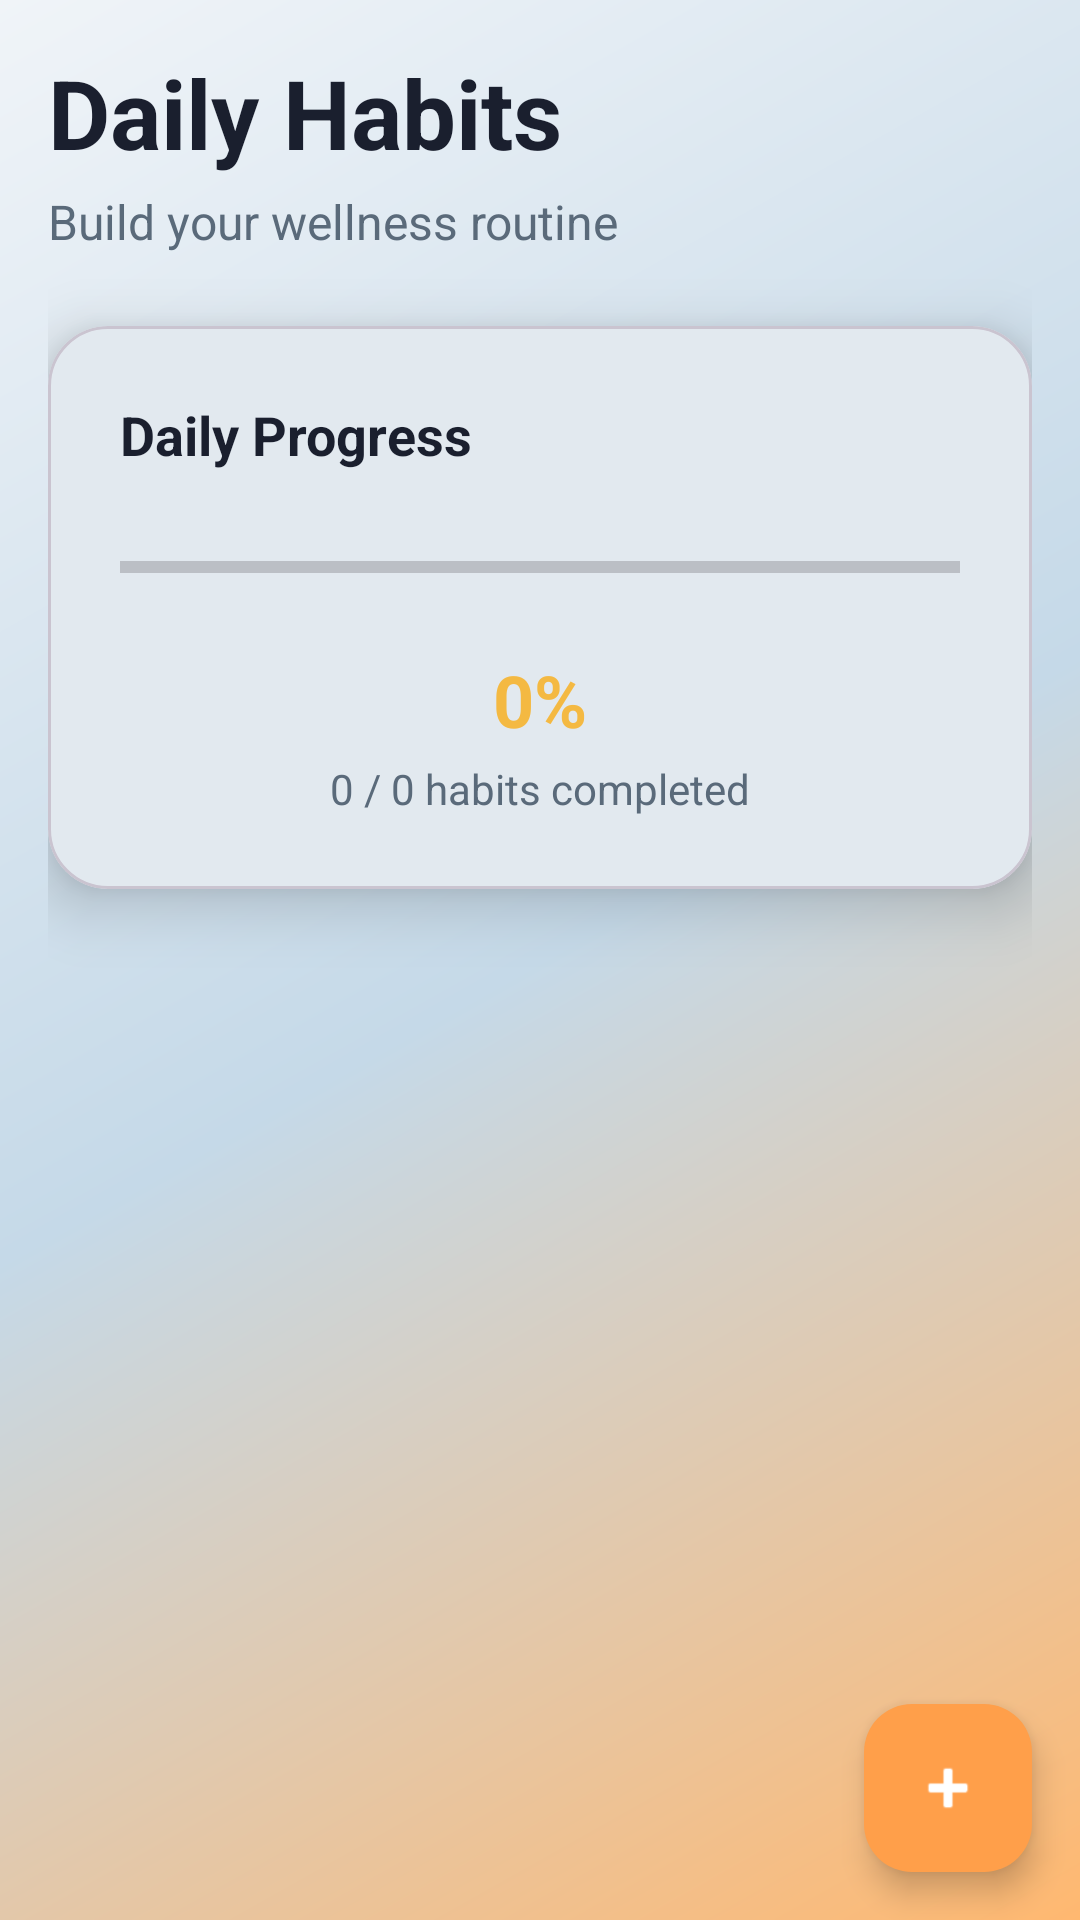

Icons on this 1080*1920 Android screen, each with the point to tap as (x=x, y=y):
Add New Habit: (x=948, y=1788)
